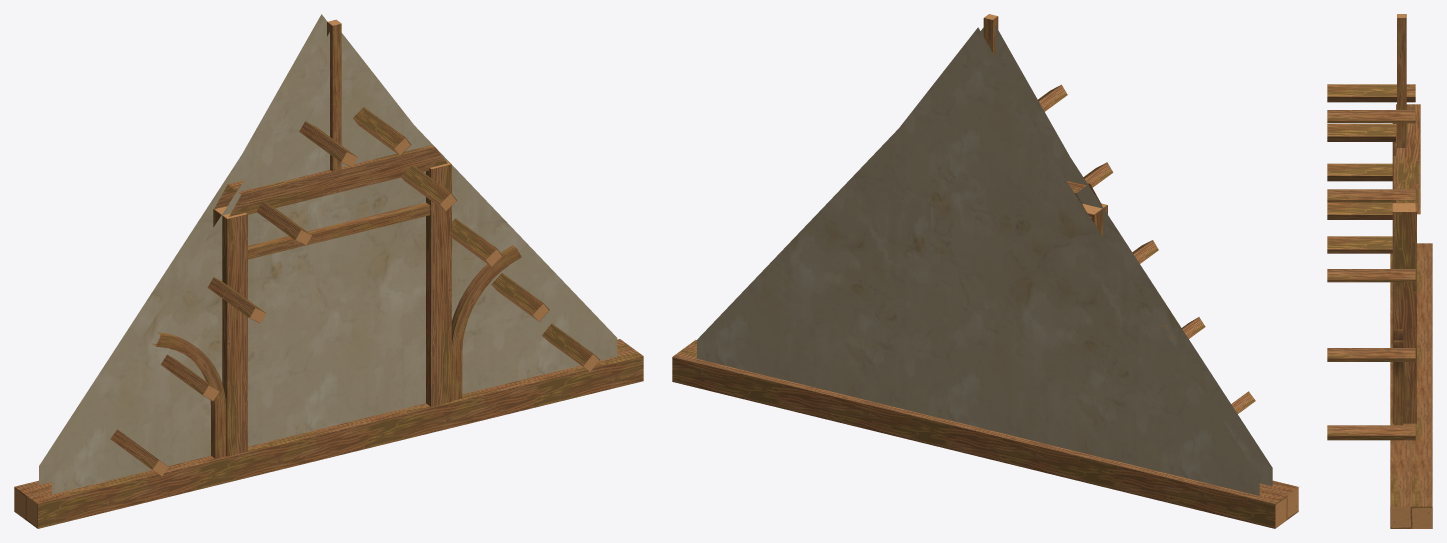
The model's file is Roof_Front_Brick6.glb.
The picture shows the model from 3 angles, left to right: view 1: azimuth 30°, elevation 25°; view 2: azimuth 150°, elevation 25°; view 3: azimuth 270°, elevation 25°; orthographic projection. The views are drawn at different scales.
Parts seen in each view (by area): view 1: Roof_Front_Brick6; view 2: Roof_Front_Brick6; view 3: Roof_Front_Brick6.
Boxes of the visible parts, box(x1,y1,x2,y2) form: Roof_Front_Brick6: box(14, 14, 643, 528); Roof_Front_Brick6: box(672, 14, 1298, 528); Roof_Front_Brick6: box(1327, 14, 1432, 528).
Size of the model in its own units: 6.69 by 4.52 by 1.13.
Materials: 2 (2 with a texture image).
